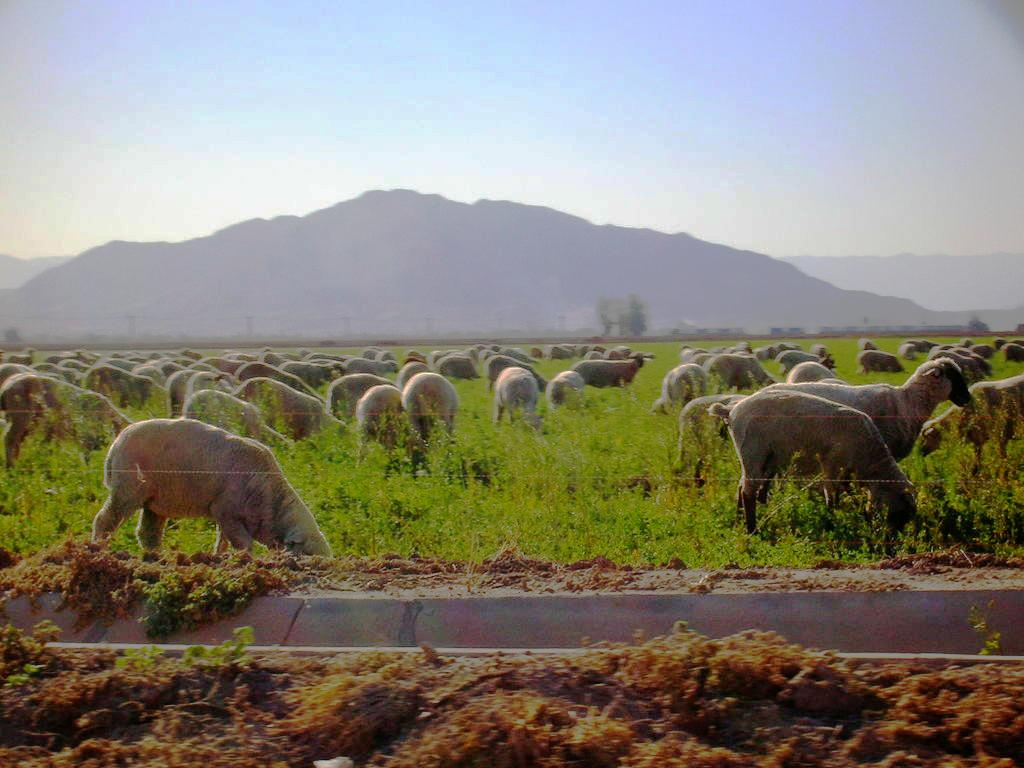Sheep: (708, 394, 936, 568), (94, 416, 334, 572), (788, 351, 980, 459), (2, 372, 126, 462), (230, 376, 338, 443), (676, 391, 744, 464), (182, 387, 270, 439), (83, 361, 167, 415), (401, 370, 459, 444), (354, 383, 407, 456), (572, 352, 654, 398), (700, 351, 778, 394), (326, 372, 396, 418), (493, 365, 541, 428), (656, 361, 710, 414), (164, 367, 222, 415), (923, 347, 993, 385), (0, 370, 53, 416), (270, 357, 338, 390), (337, 356, 397, 386), (545, 369, 585, 411), (776, 350, 834, 378), (968, 378, 1014, 409), (432, 352, 481, 381), (485, 349, 539, 375), (683, 393, 747, 413), (856, 349, 905, 375), (397, 360, 435, 391), (200, 356, 249, 377), (0, 362, 33, 393), (144, 359, 188, 379), (752, 343, 797, 362), (131, 363, 167, 386), (32, 364, 75, 383), (93, 357, 137, 375), (929, 345, 971, 362), (676, 346, 714, 364), (53, 359, 91, 376), (898, 340, 939, 355), (569, 357, 609, 372), (359, 346, 396, 362), (273, 351, 315, 365), (309, 353, 348, 368), (544, 344, 576, 361), (968, 343, 996, 360), (401, 351, 429, 367), (427, 349, 449, 369), (1001, 344, 1024, 363), (503, 347, 532, 362), (809, 343, 831, 361), (607, 346, 635, 360), (467, 344, 495, 358), (773, 342, 803, 354), (731, 341, 754, 355), (929, 344, 958, 353), (586, 347, 607, 359), (528, 347, 544, 359), (993, 338, 1009, 350), (958, 338, 976, 348), (708, 346, 728, 355)
